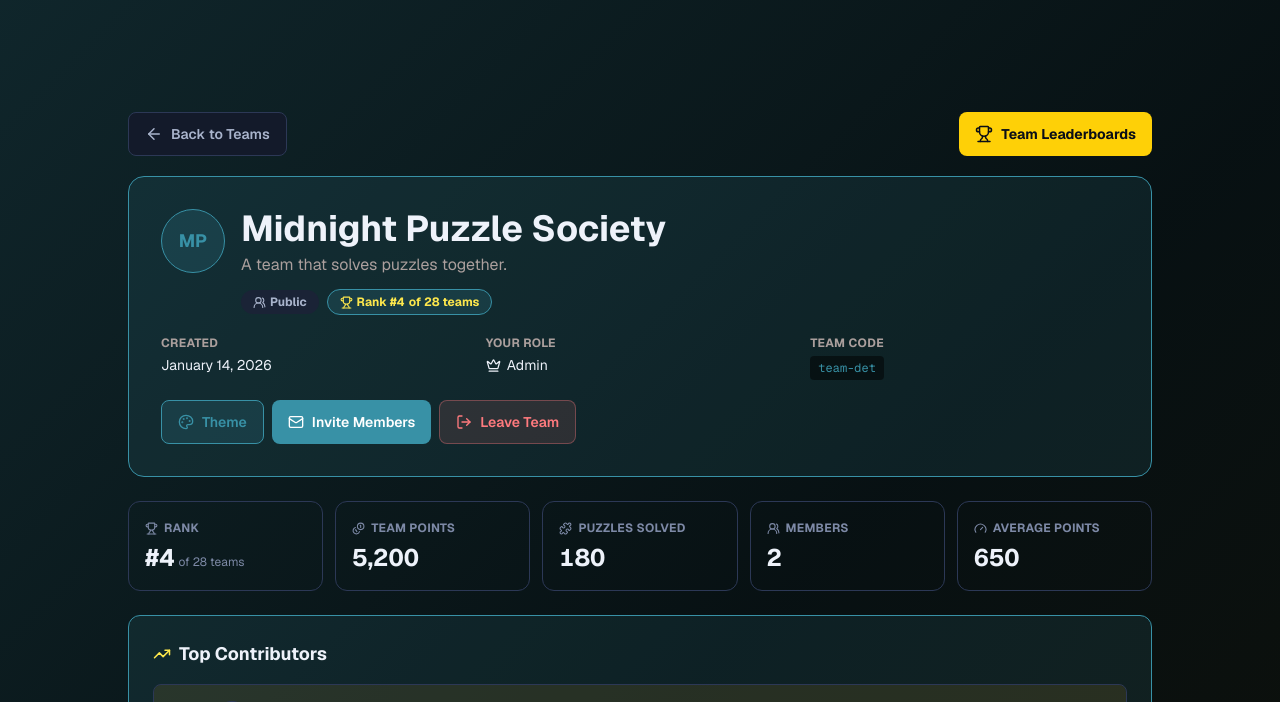
Test case: Team Detail page — action deck and theme picker (Pass 16B.1) › 71. valid owned inventory themes render
Click the button "Theme": (212, 422) top-left (161, 400), bottom-right (264, 444)
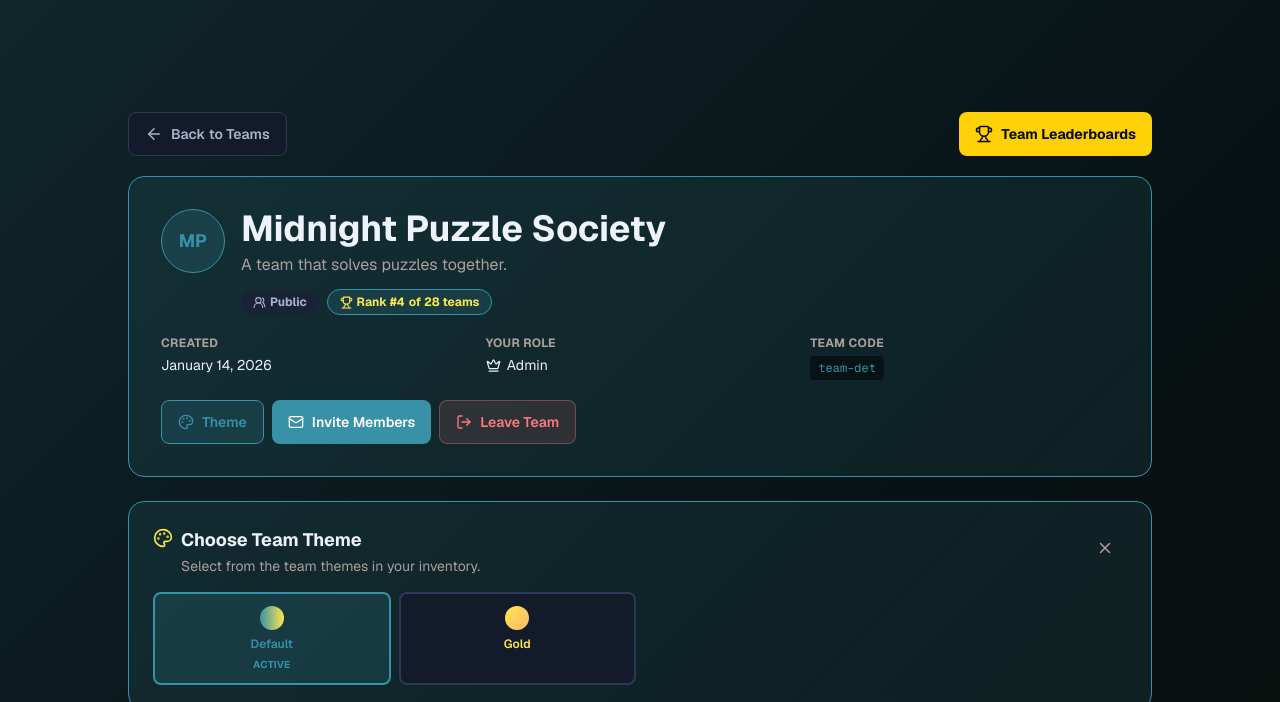
Expected: the button with test id "team-theme-option-gold" is shown, top-left (398, 592), bottom-right (636, 685)
